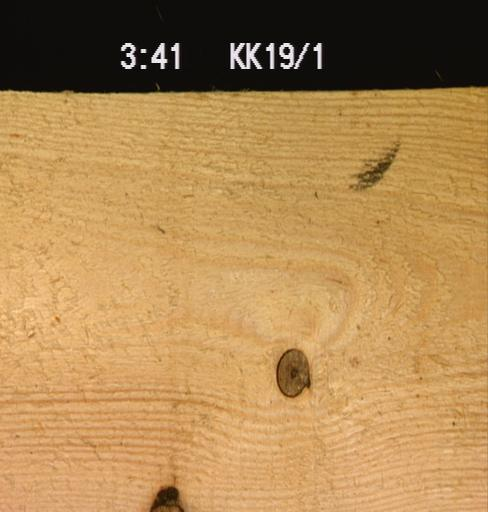dry_knot: (274, 347, 311, 399)
edge_knot: (147, 482, 185, 511)
